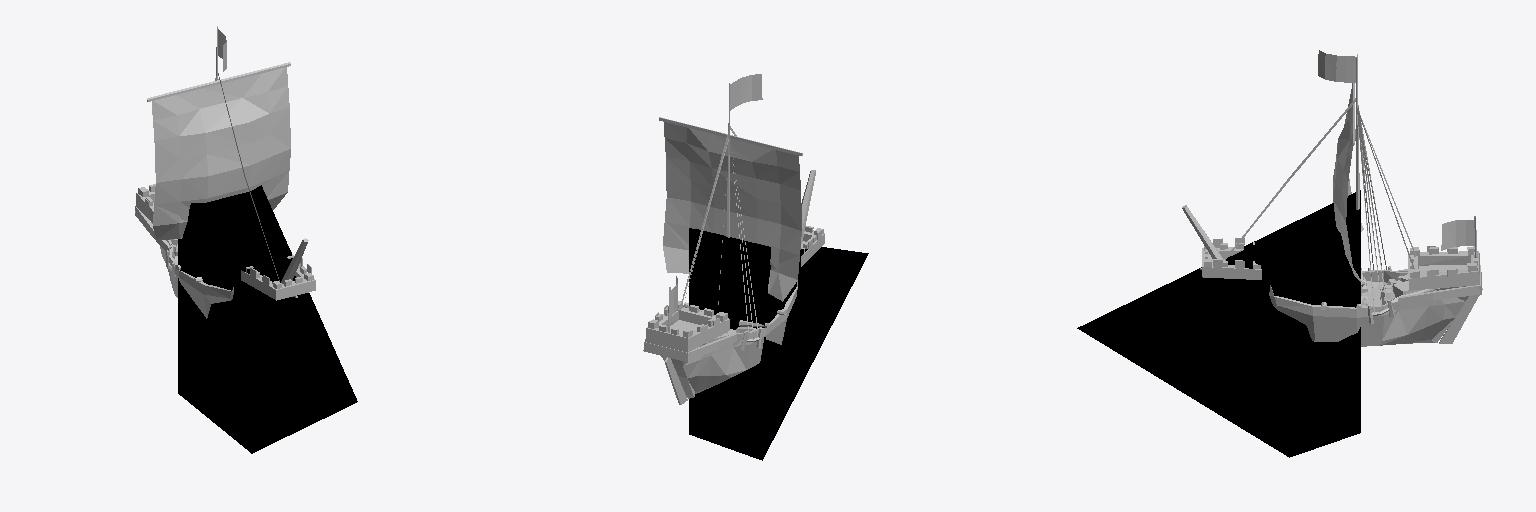
File: pdx_transport.obj
3 renders of one model, left to right at view 1: azimuth 30°, elevation 25°; view 2: azimuth 150°, elevation 25°; view 3: azimuth 270°, elevation 25°, orthographic.
Parts seen in each view (by area): view 1: mesh-2_mesh-2-geometry-model, mesh-0_mesh-0-geometry-model.001; view 2: mesh-0_mesh-0-geometry-model.001, mesh-2_mesh-2-geometry-model, mesh-1_mesh-1-geometry-model; view 3: mesh-2_mesh-2-geometry-model, mesh-0_mesh-0-geometry-model.001, mesh-1_mesh-1-geometry-model.
Part boxes in pixels (bbox=[...]): mesh-2_mesh-2-geometry-model: bbox=[178, 185, 357, 453]; mesh-0_mesh-0-geometry-model.001: bbox=[135, 26, 315, 318]; mesh-0_mesh-0-geometry-model.001: bbox=[643, 83, 824, 404]; mesh-2_mesh-2-geometry-model: bbox=[689, 228, 868, 460]; mesh-1_mesh-1-geometry-model: bbox=[671, 74, 762, 315]; mesh-2_mesh-2-geometry-model: bbox=[1077, 190, 1360, 457]; mesh-0_mesh-0-geometry-model.001: bbox=[1182, 54, 1482, 346]; mesh-1_mesh-1-geometry-model: bbox=[1318, 50, 1474, 250].
Bounding box in the file's own units: 4 × 10.73 × 9.8.